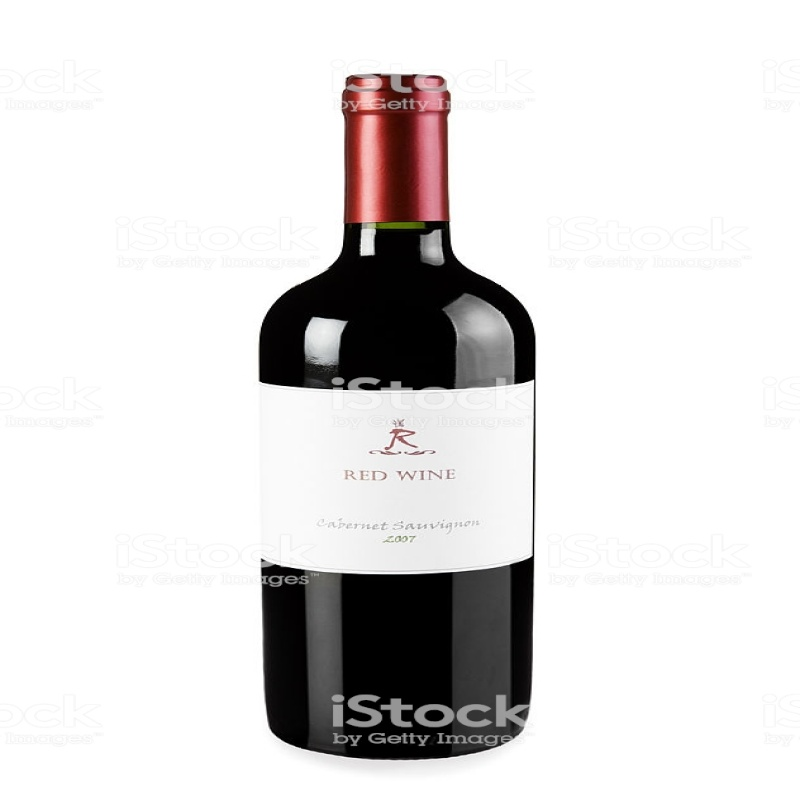wine: (258, 78, 537, 743)
